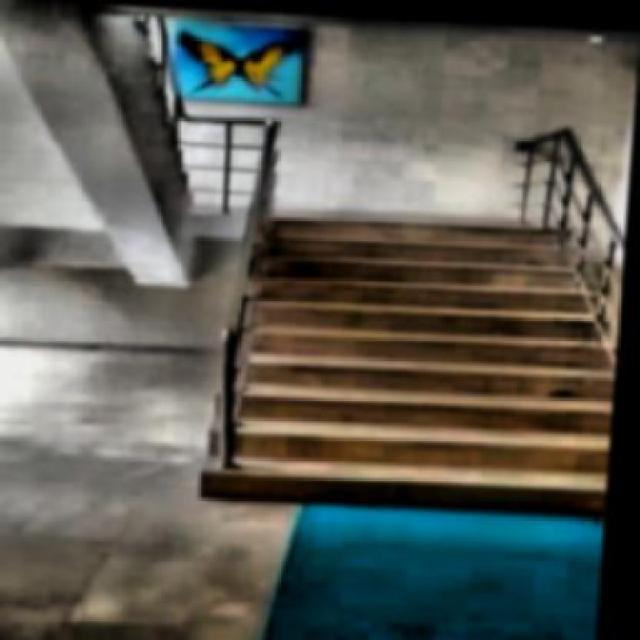stair: (195, 194, 628, 514)
